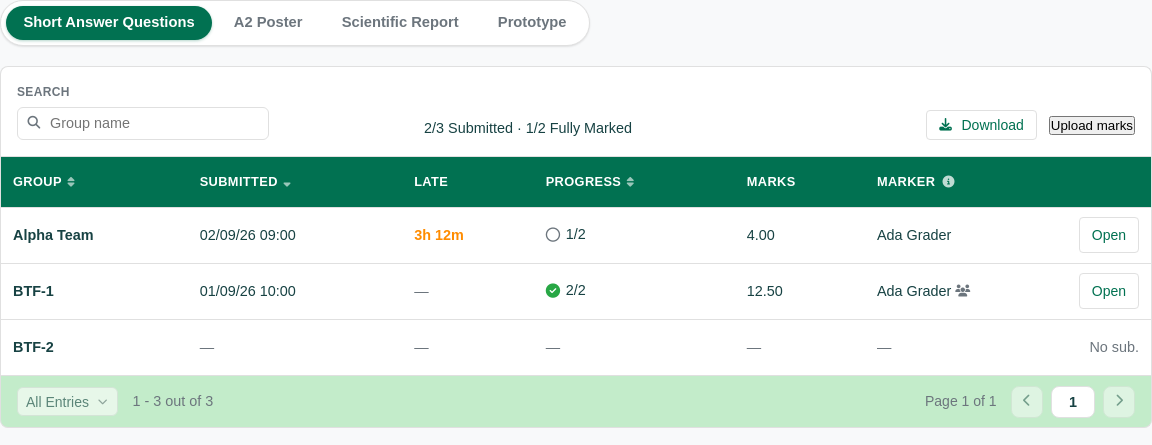
Test: the table › live-filters and reports an empty search honestly
In the search field labelled "Search": (143, 123) x1=17 y1=106 x2=269 y2=140, type "alpha"
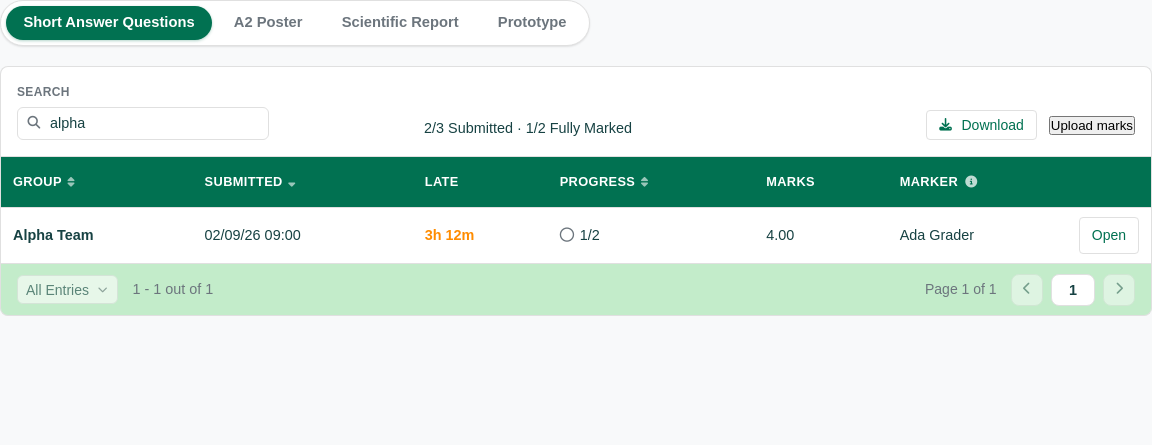
Replace the text in the search field labelled "Search" with "zzz": (143, 123) x1=17 y1=106 x2=269 y2=140
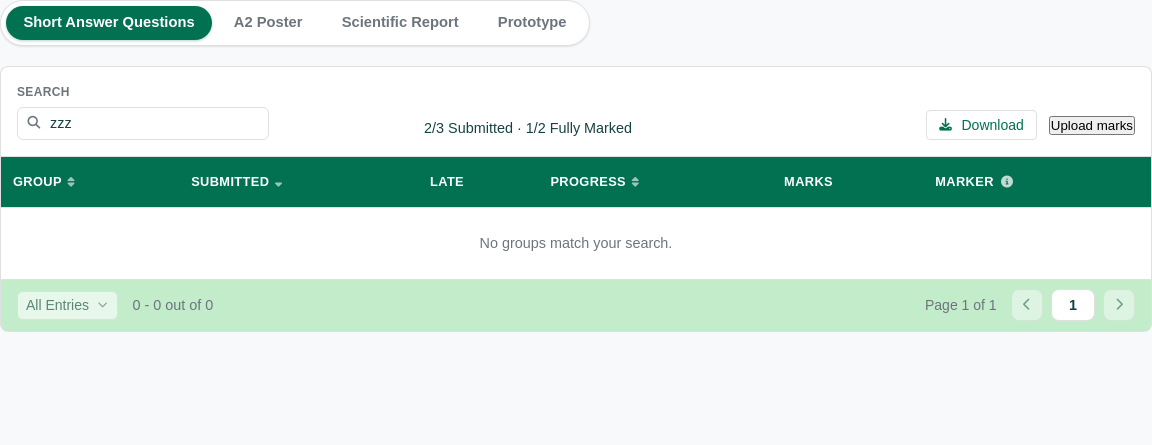
Expected: the cell with class "data-table-empty" reads "No groups match your search.", x1=480 y1=235 x2=672 y2=251
